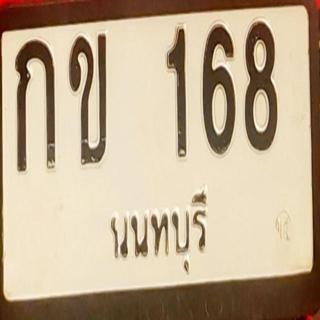A01: (9, 36, 64, 178)
A02: (64, 30, 115, 171)
N01: (159, 20, 193, 162)
N06: (201, 18, 242, 159)
N08: (239, 18, 285, 155)
P37: (106, 182, 217, 278)
